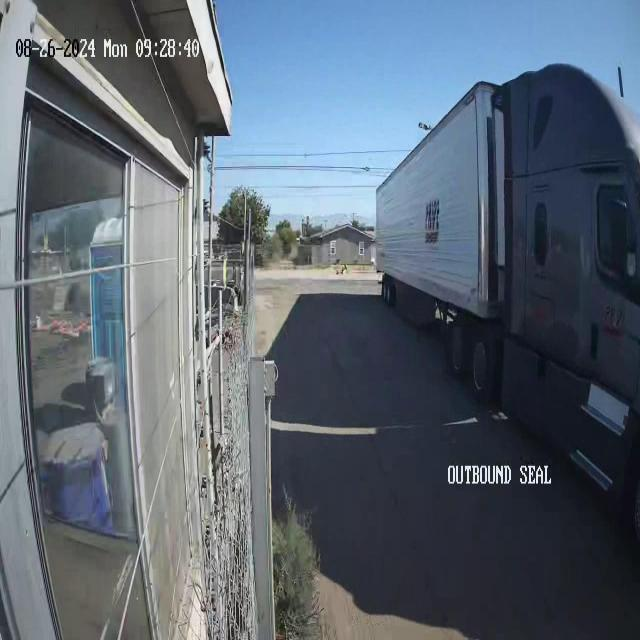TRUCK_IN: (374, 61, 639, 539)
